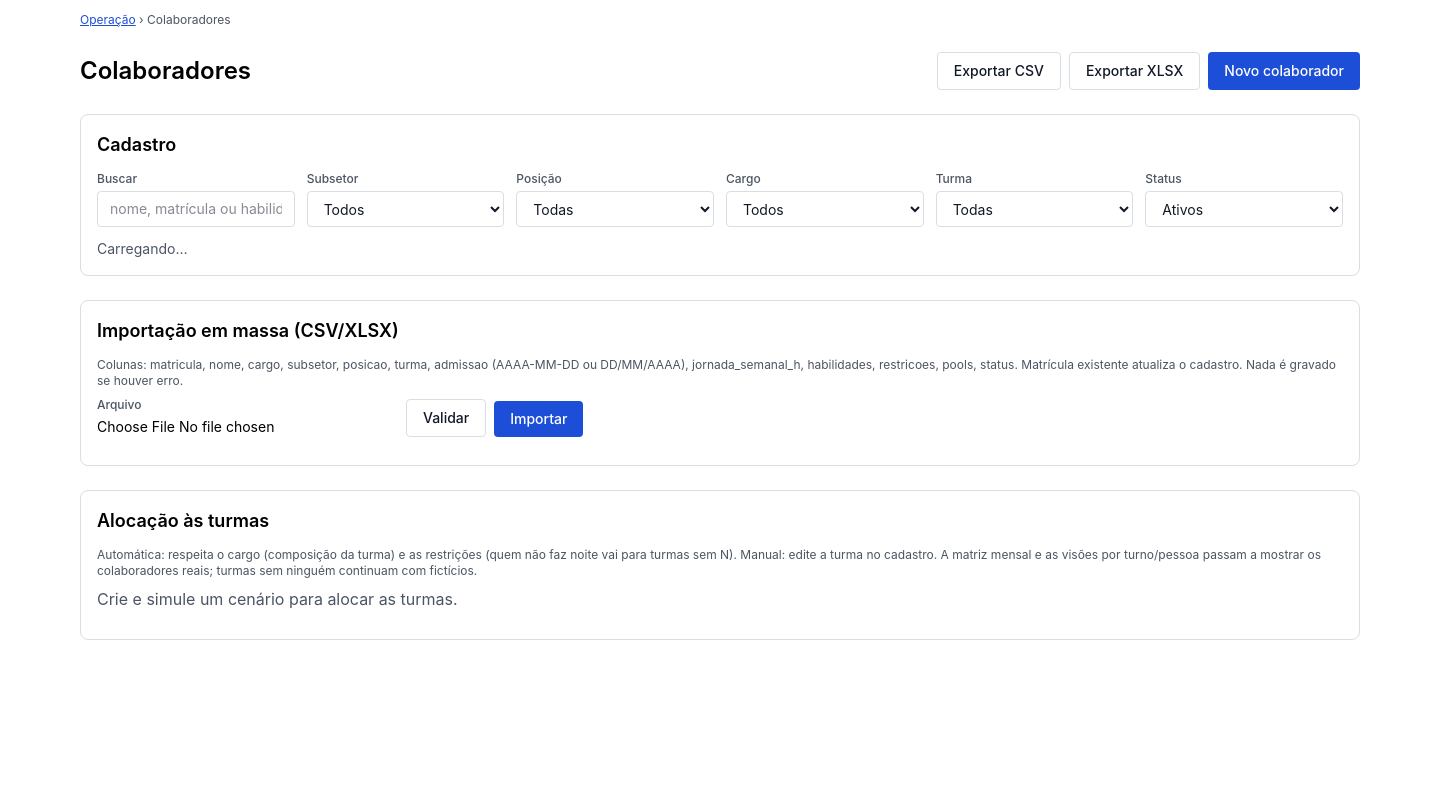
Tela de colaboradores (v3.8) › importação: valida (dry-run) e mostra o relatório de erros por linha
Earlier steps of the test are not shown.
Step 1. Click the button "Validar" → (446, 418), box 406,399 -> 486,437
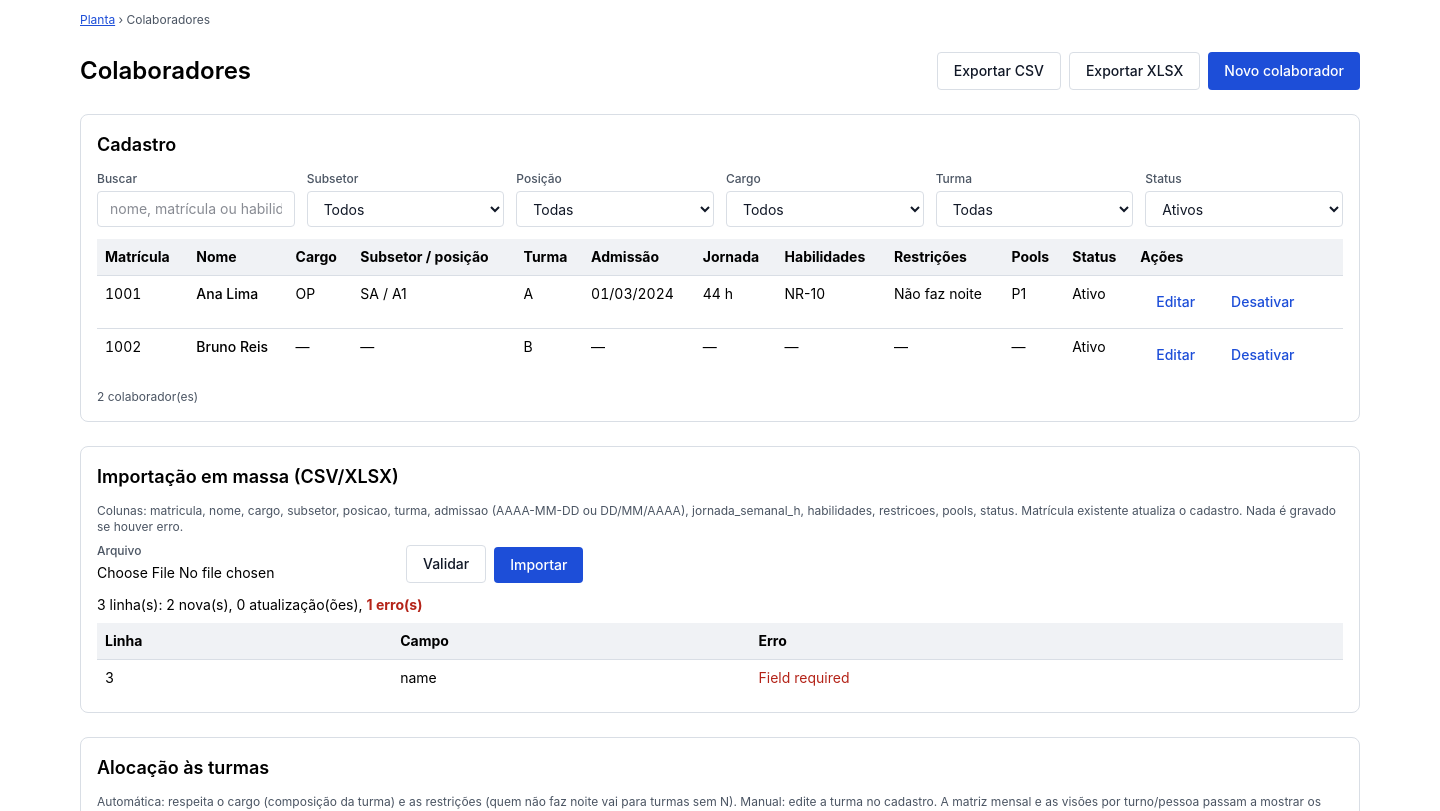
Result: the text "Field required" is shown at 750,660 -> 1343,696
Result: the text "1 erro(s)" is shown at 367,596 -> 422,613
